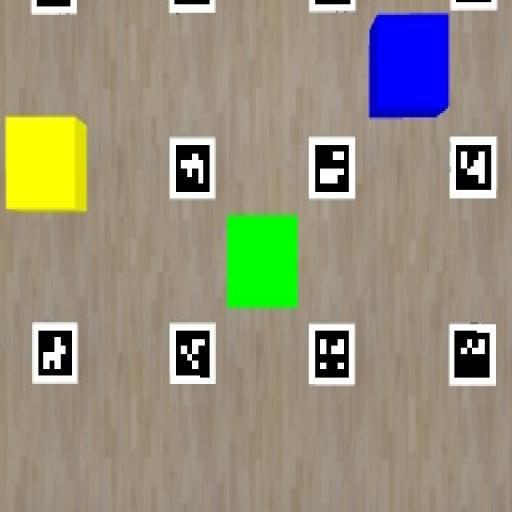car: (368, 13, 449, 119), (228, 214, 299, 309)
fire: (5, 116, 87, 213)
